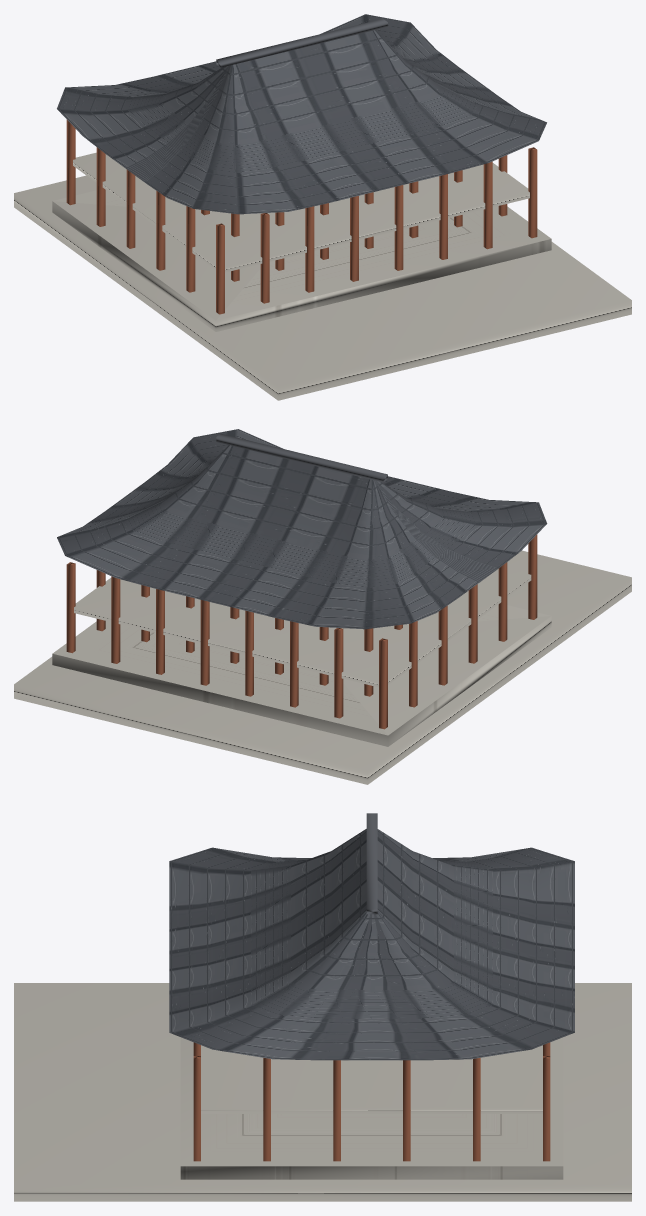
3 renders of one model, top to bottom at view 1: azimuth 30°, elevation 25°; view 2: azimuth 150°, elevation 25°; view 3: azimuth 270°, elevation 25°, orthographic. The views are drawn at different scales.
Parts seen in each view (by area): view 1: pavilion_lod2_mass, pavilion_lod2_roof, pavilion_lod2_columns; view 2: pavilion_lod2_mass, pavilion_lod2_roof, pavilion_lod2_columns; view 3: pavilion_lod2_mass, pavilion_lod2_roof, pavilion_lod2_columns.
Boxes of the visible parts, x1,y1,x2,y2 form: pavilion_lod2_mass: [14, 152, 631, 400]; pavilion_lod2_roof: [57, 14, 546, 214]; pavilion_lod2_columns: [66, 119, 537, 314]; pavilion_lod2_mass: [14, 550, 631, 784]; pavilion_lod2_roof: [57, 429, 547, 629]; pavilion_lod2_columns: [66, 534, 537, 729]; pavilion_lod2_mass: [14, 983, 631, 1201]; pavilion_lod2_roof: [169, 813, 574, 1060]; pavilion_lod2_columns: [193, 1042, 550, 1161].
Size of what is drawn, in the model's own units: 39 by 21.55 by 50.42.
Materials: 3 (3 with a texture image).
